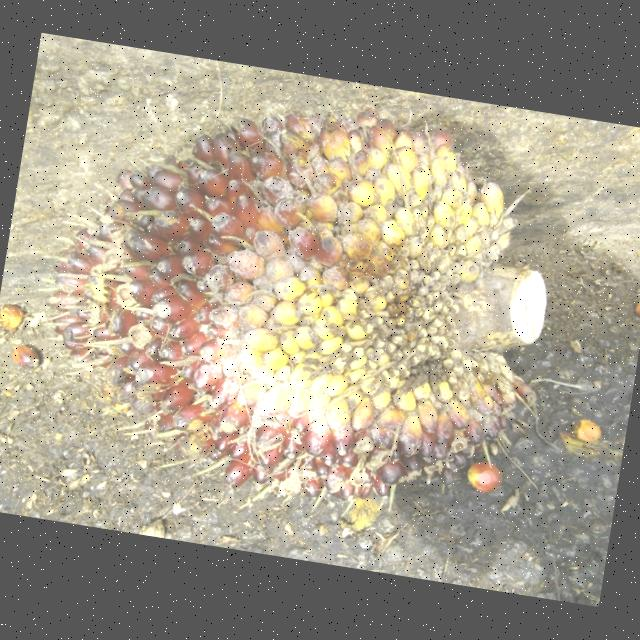Ripe: (47, 98, 540, 511)
